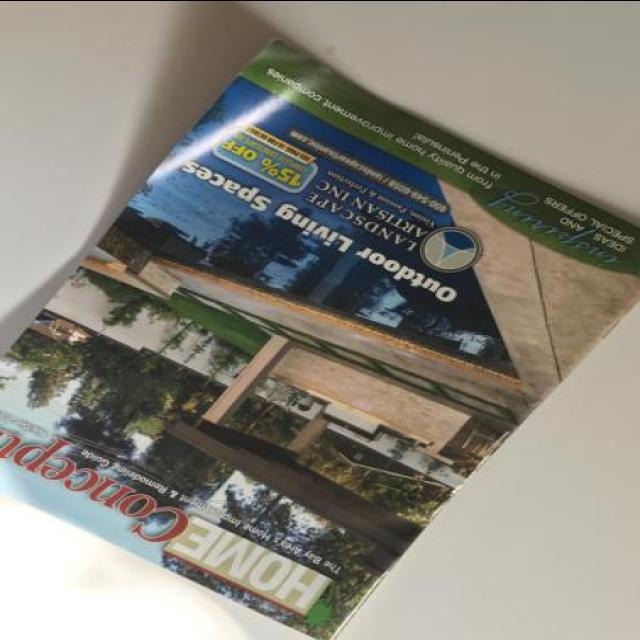kertas: (0, 35, 640, 640)
